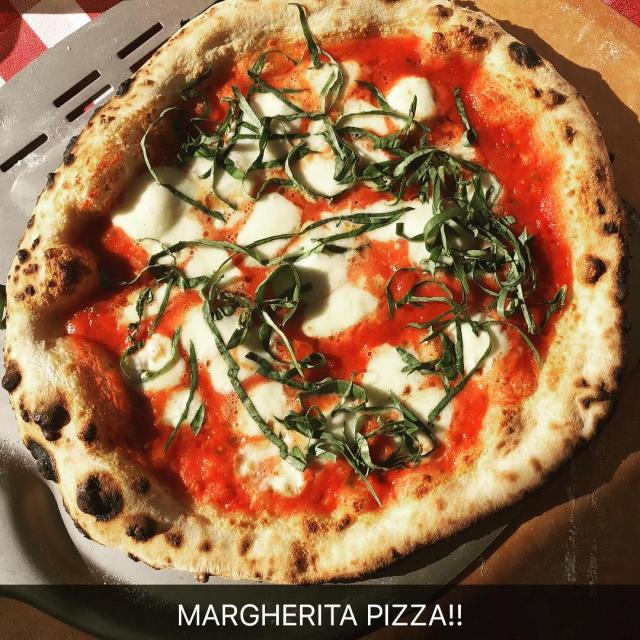pizza: (0, 0, 628, 589)
